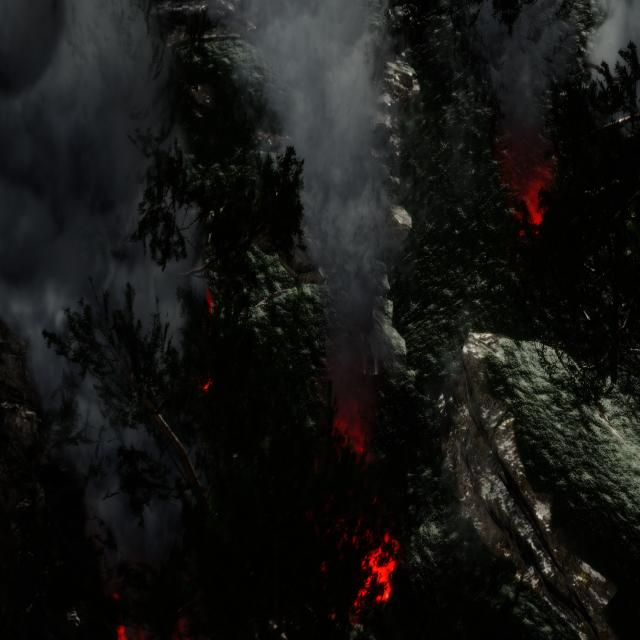Human: (346, 256, 383, 390)
